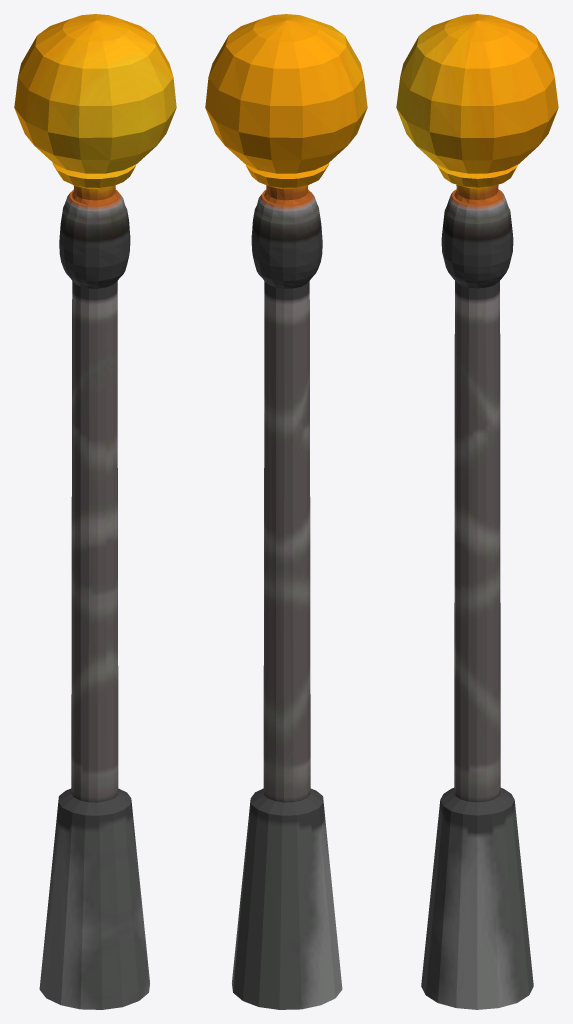
Rendered from Slamp.glb.
The picture shows the model from 3 angles, left to right: view 1: azimuth 30°, elevation 25°; view 2: azimuth 150°, elevation 25°; view 3: azimuth 270°, elevation 25°; orthographic projection.
Parts seen in each view (by area): view 1: Slamp; view 2: Slamp; view 3: Slamp.
Boxes of the visible parts, bbox=[...] form: Slamp: bbox=[14, 14, 176, 1009]; Slamp: bbox=[205, 14, 367, 1009]; Slamp: bbox=[396, 14, 558, 1009].
Bounding box in the file's own units: 85.77 × 569 × 86.24.
1 material, 1 textured.
